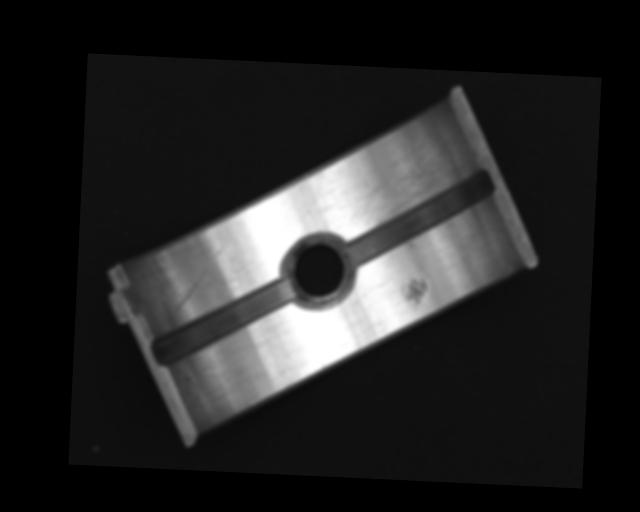bruise: (403, 276, 428, 313)
gap: (344, 163, 495, 272), (151, 273, 295, 372)
hole: (284, 233, 355, 311)
nick: (173, 243, 225, 315)
scratch: (349, 131, 462, 234)
